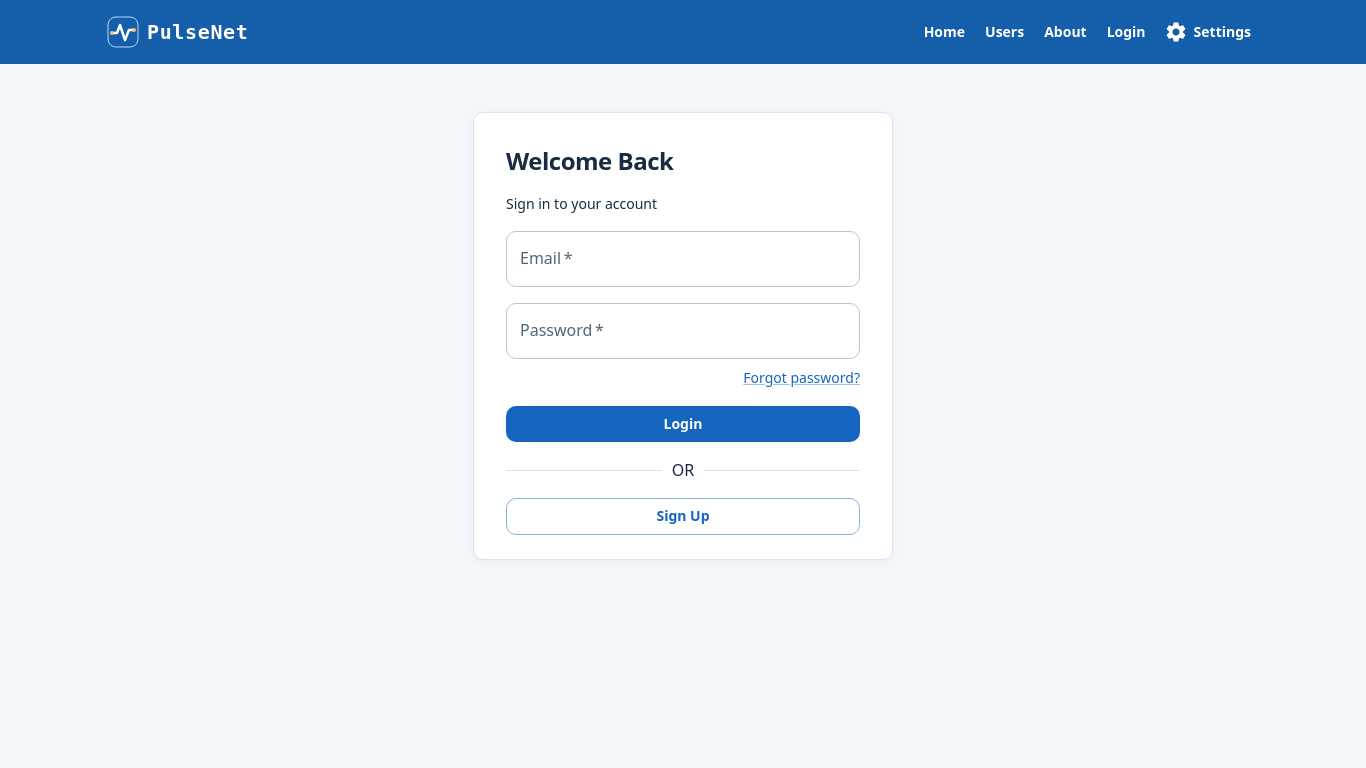
authentication flow › checks the email format before asking the server
Click the button with test id "login-submit" at [683, 425], box [506,406,860,443]
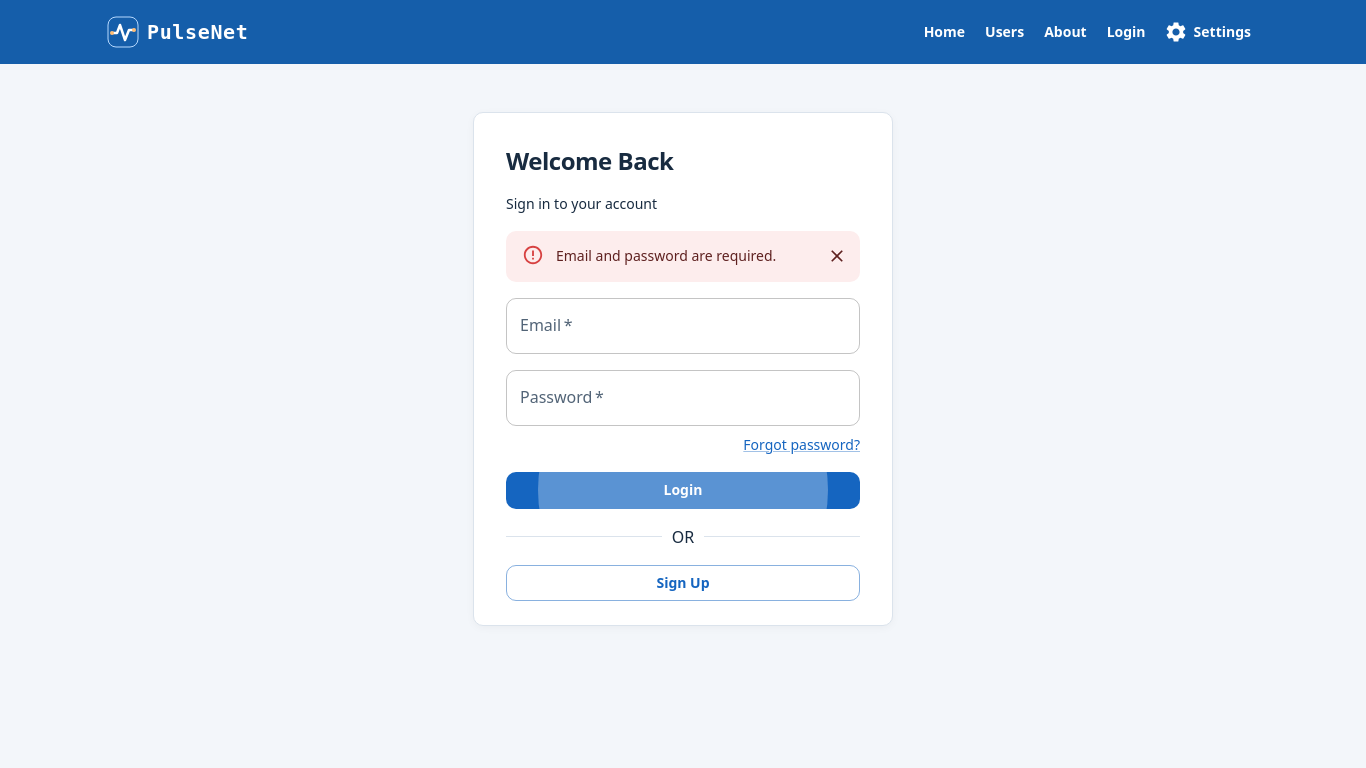
Result: the text with test id "login-error" reads "Email and password are required." at [556,246,776,265]
Type "not-an-email" into the field with test id "login-email" at [683, 326], box [506,298,860,354]
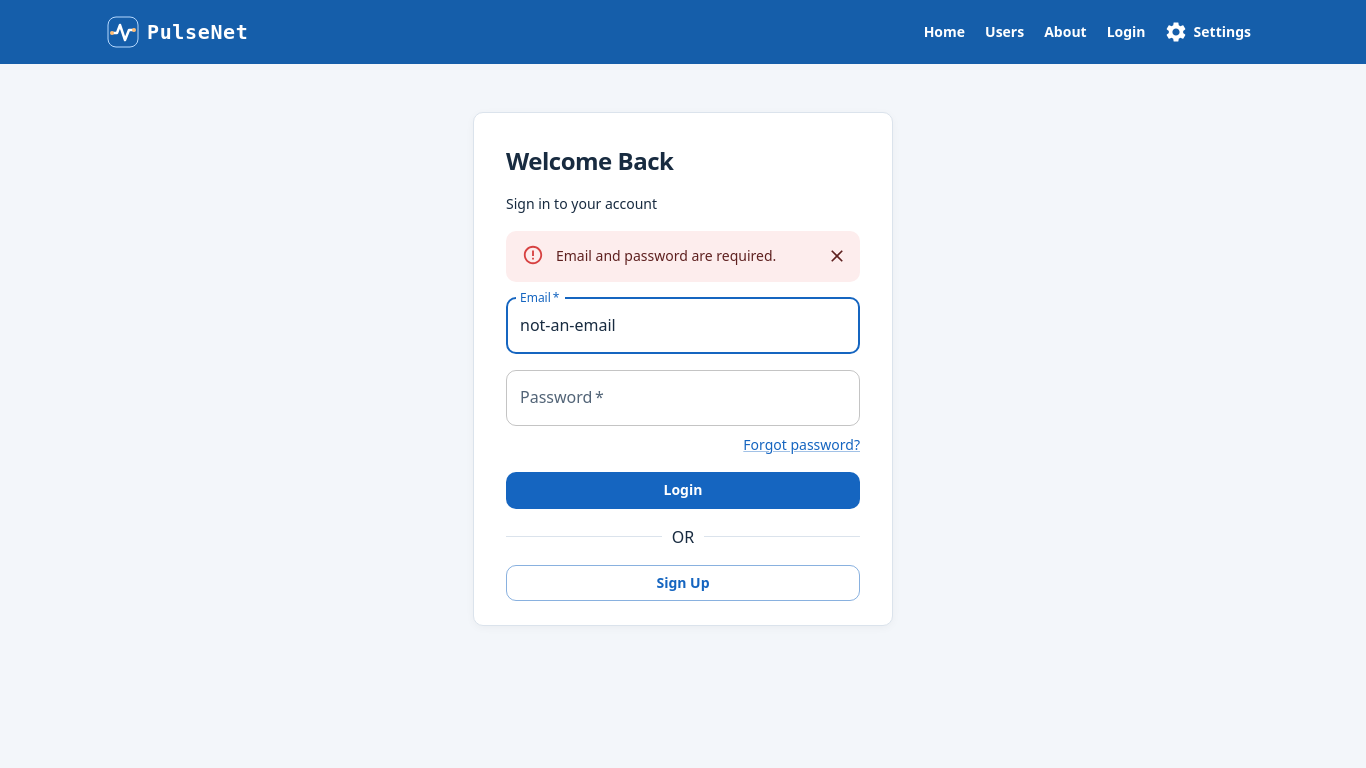
Type "SomePass123!" into the password field with test id "login-password" at [683, 398], box [506,370,860,426]
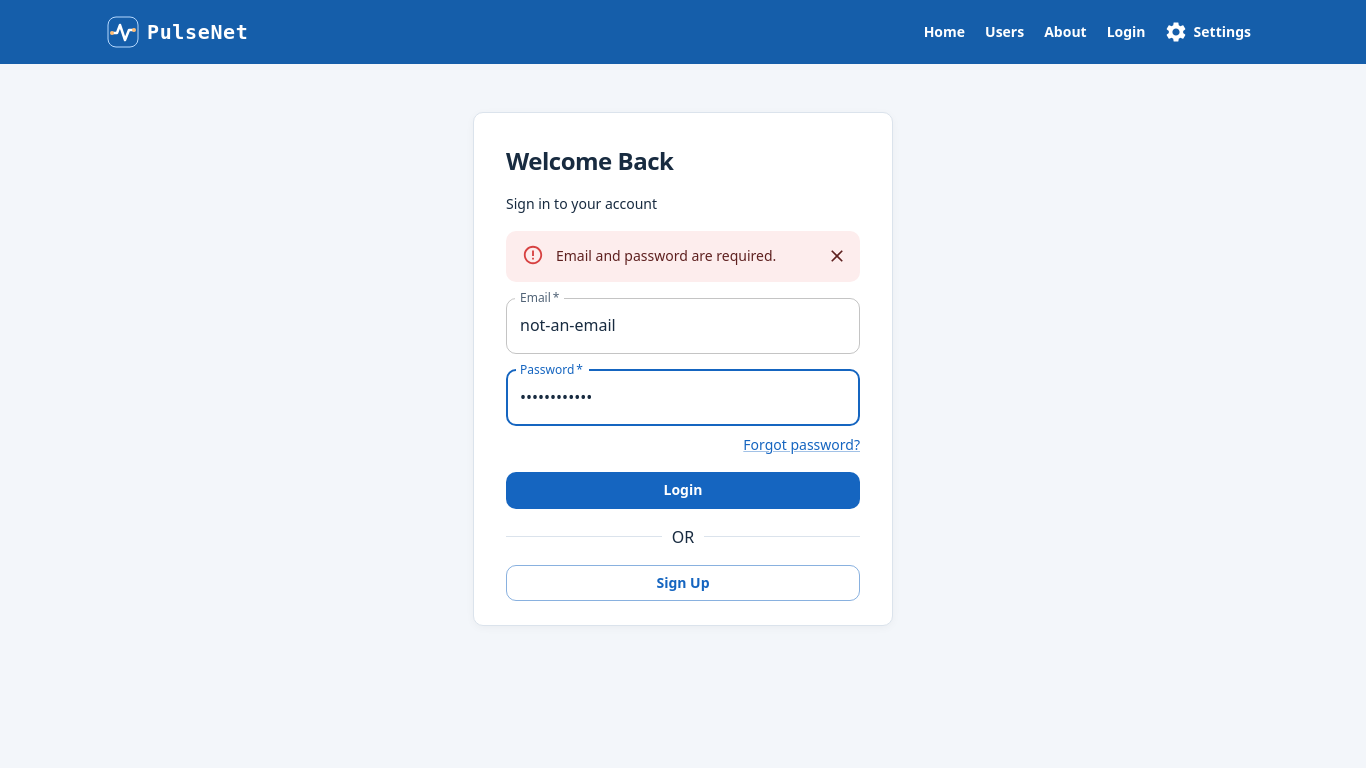
Click the button with test id "login-submit" at [683, 491], box [506,472,860,509]
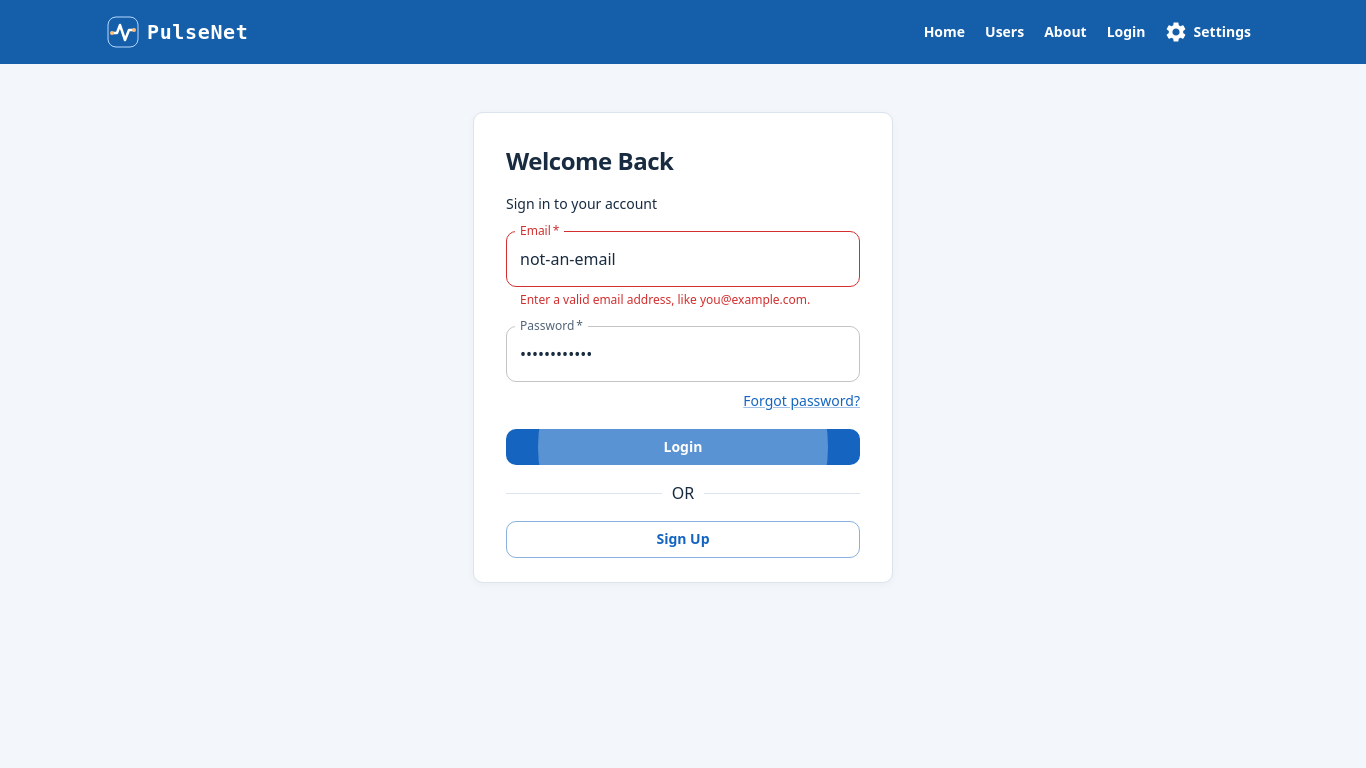
Result: the text with test id "login-email-error" shows "Enter a valid email address" at [520,291,810,308]
Result: the message with test id "login-error" is gone
Type "@example.com" into the field with test id "login-email" at [683, 259], box [506,231,860,287]
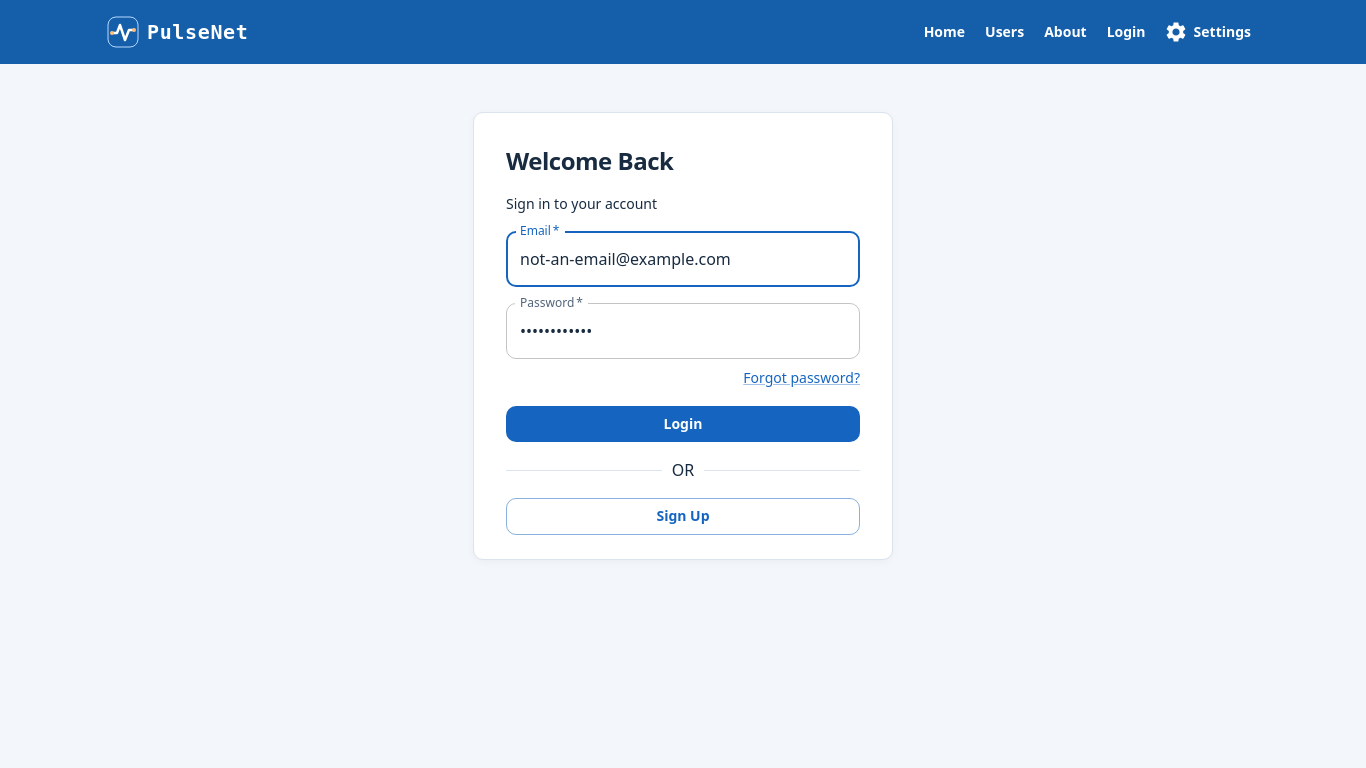
Result: the text with test id "login-email-error" is gone
